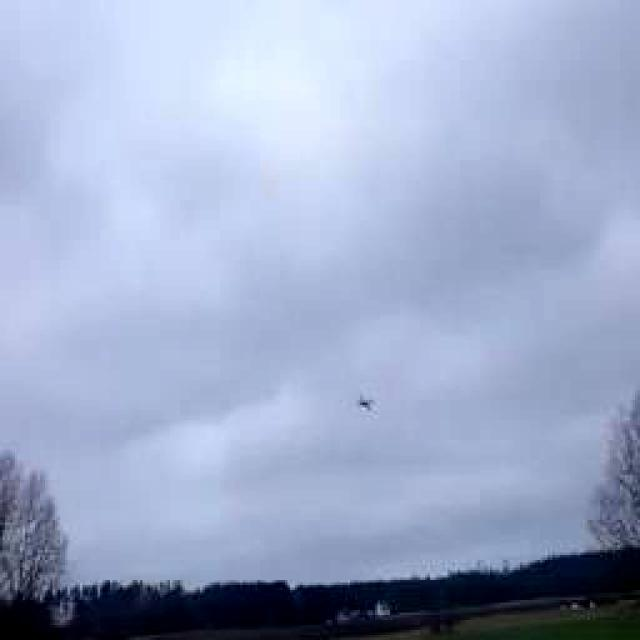bird: (338, 376, 395, 424)
